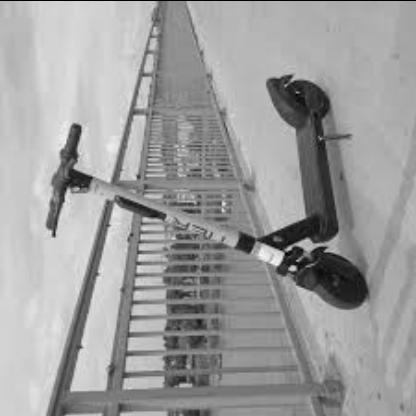bike: (45, 72, 370, 311)
